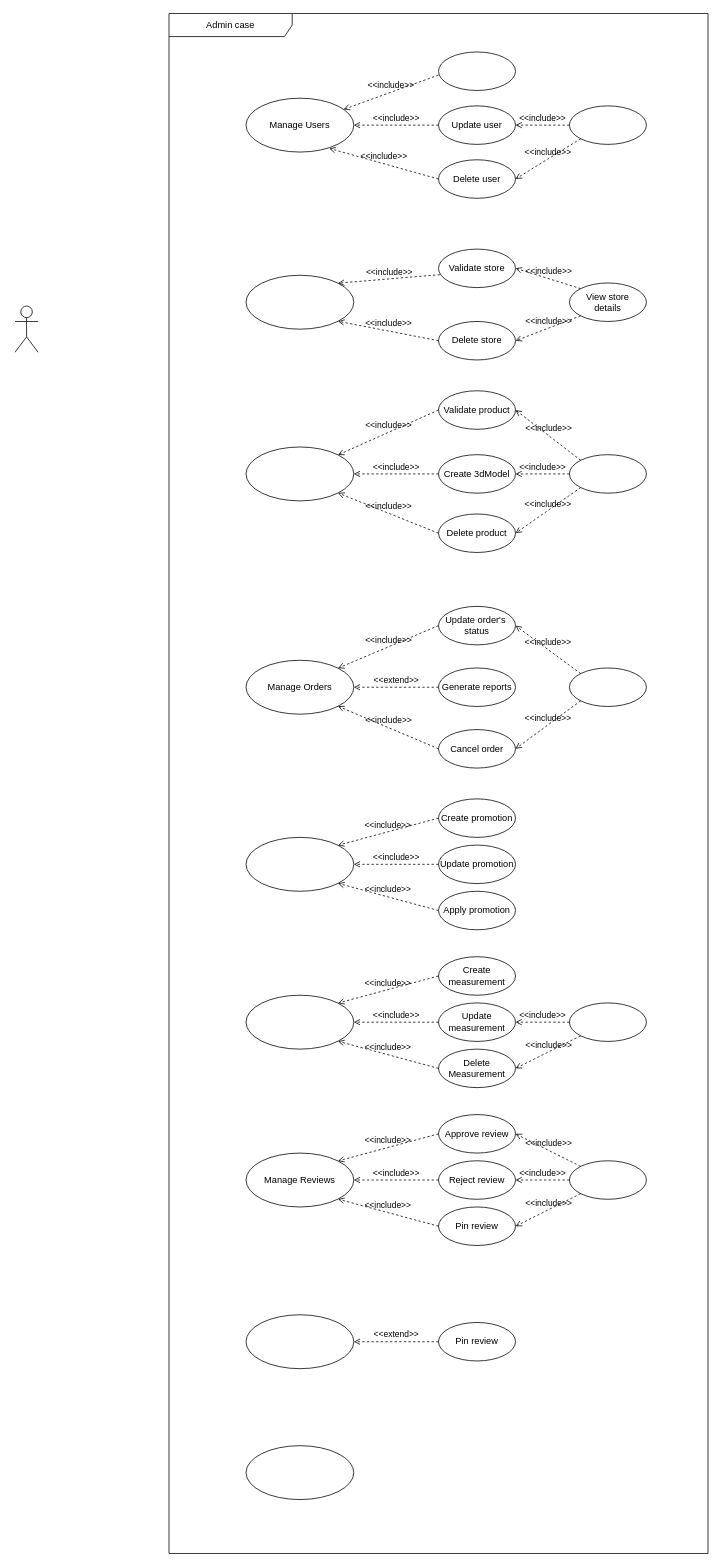
Some shapes in this 721 by 1567 pixel diagram are drawn without their labels. The centre of each missing label's shape, as x and y in pixels:
"Admin" belongs at pixel 26 328.
"Create user" belongs at pixel 477 70.
"Manage measurements" belongs at pixel 299 1021.
"Manage notifications" belongs at pixel 299 1341.
"Manage Products" belongs at pixel 299 473.
"Manage Promotions" belongs at pixel 299 864.
"Manage Stores" belongs at pixel 299 302.
"View analytics" belongs at pixel 299 1472.
"View measurement" belongs at pixel 607 1021.
"View order details" belongs at pixel 607 686.
"View product details" belongs at pixel 607 473.
"View review details" belongs at pixel 607 1179.
"View user details" belongs at pixel 607 124.
